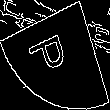P_E: (31, 29, 79, 81)
